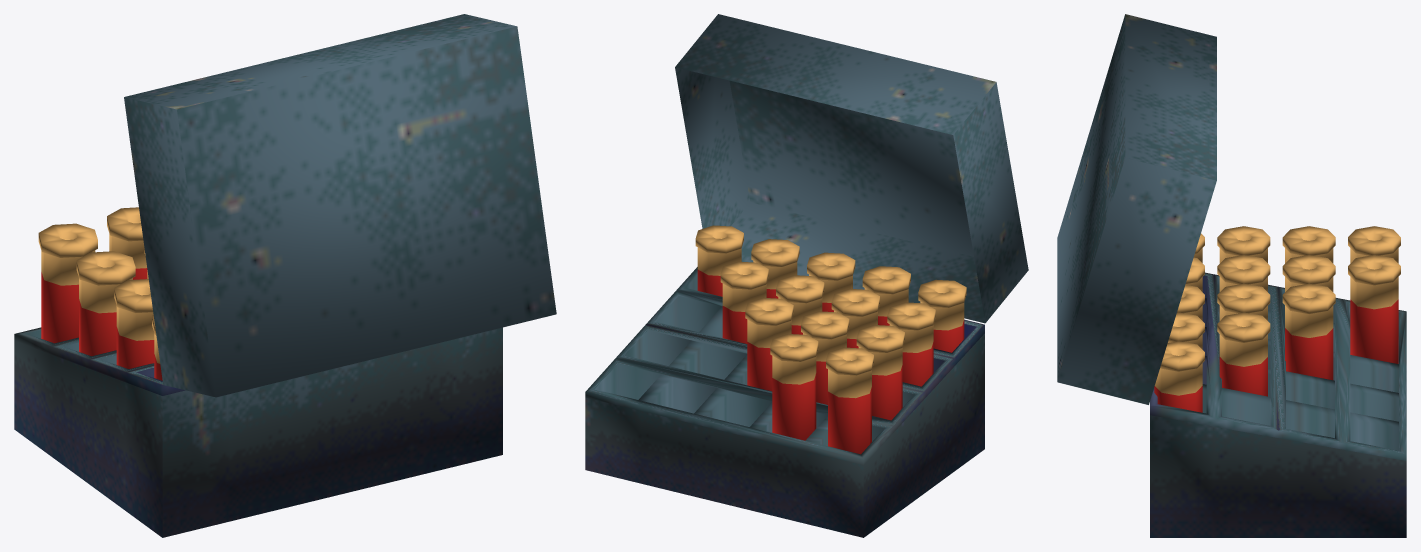
File: Ammo Box.glb
3 renders of one model, left to right at view 1: azimuth 30°, elevation 25°; view 2: azimuth 150°, elevation 25°; view 3: azimuth 270°, elevation 25°, orthographic. The views are drawn at different scales.
Parts seen in each view (by area): view 1: Cube.015, Cube.011, Cube.013, Cube.016, Cube.017, Cube.074; view 2: Cube.015, Cube.011, Cube.074, Cube.013, Cube.016, Cube.083, Cube.017, Cube.080, Cube.073, Cube.082, Cube.075, Cube.081 (+4 smaller); view 3: Cube.015, Cube.011, Cube.074, Cube.083, Cube.080, Cube.082, Cube.016, Cube.078, Cube.013, Cube.017, Cube.075, Cube.076 (+3 smaller).
Boxes of the visible parts, x1=… form: Cube.015: x1=124, y1=14, x2=556, y2=397; Cube.011: x1=14, y1=327, x2=502, y2=537; Cube.013: x1=38, y1=223, x2=97, y2=343; Cube.016: x1=76, y1=251, x2=135, y2=356; Cube.017: x1=114, y1=279, x2=154, y2=368; Cube.074: x1=107, y1=207, x2=147, y2=279; Cube.015: x1=675, y1=14, x2=1028, y2=323; Cube.011: x1=585, y1=267, x2=984, y2=537; Cube.074: x1=770, y1=334, x2=818, y2=440; Cube.013: x1=826, y1=347, x2=873, y2=454; Cube.016: x1=856, y1=325, x2=904, y2=420; Cube.083: x1=745, y1=297, x2=793, y2=391; Cube.017: x1=887, y1=302, x2=935, y2=386; Cube.080: x1=720, y1=261, x2=768, y2=343; Cube.073: x1=918, y1=279, x2=966, y2=352; Cube.082: x1=695, y1=225, x2=743, y2=296; Cube.075: x1=801, y1=311, x2=849, y2=404; Cube.081: x1=751, y1=239, x2=799, y2=298; Cube.015: x1=1057, y1=14, x2=1216, y2=404; Cube.011: x1=1150, y1=272, x2=1406, y2=537; Cube.074: x1=1348, y1=255, x2=1400, y2=363; Cube.083: x1=1282, y1=283, x2=1335, y2=380; Cube.080: x1=1217, y1=312, x2=1270, y2=396; Cube.082: x1=1154, y1=341, x2=1204, y2=412; Cube.016: x1=1282, y1=226, x2=1335, y2=263; Cube.078: x1=1217, y1=283, x2=1270, y2=320; Cube.013: x1=1348, y1=226, x2=1400, y2=263; Cube.017: x1=1217, y1=226, x2=1270, y2=263; Cube.075: x1=1282, y1=255, x2=1335, y2=291; Cube.076: x1=1217, y1=255, x2=1270, y2=291.
Bounding box in the file's own units: 0.3641 × 0.4484 × 0.3738.
Materials: 3 (1 with a texture image).
